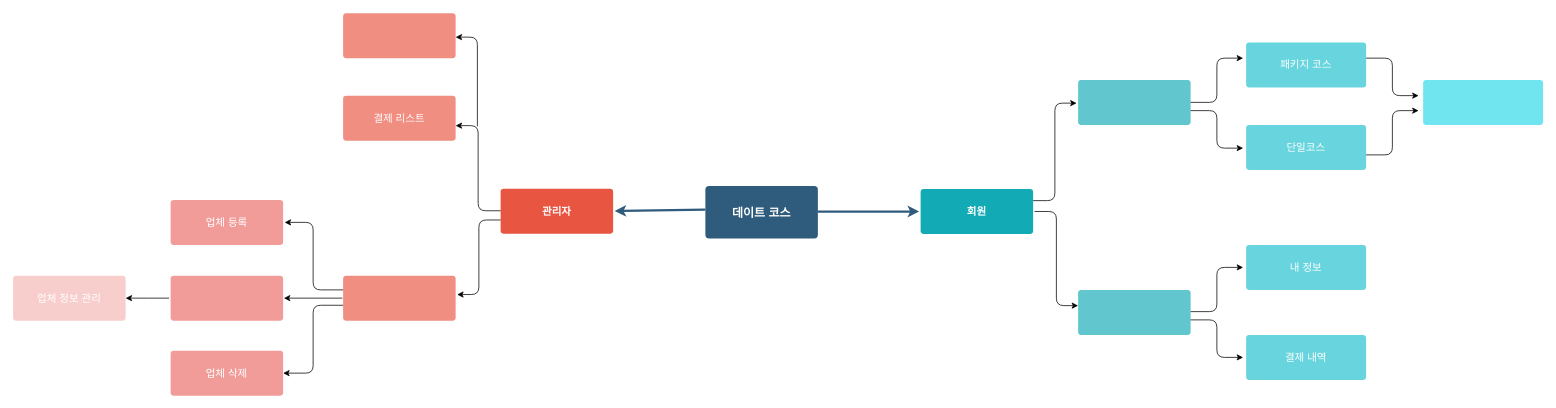
Image size: 1556x408. Some labels were removed from this diagram. The shapes that lost their labels are listed below. From the top down, each one's centre as x and y in pixels, then its label:
At pixel 399 35: "회원 리스트".
At pixel 1134 102: "지역설정".
At pixel 1483 102: "코스 예약 및 결제".
At pixel 226 297: "업체 수정".
At pixel 399 297: "업체 리스트".
At pixel 1134 312: "마이페이지".
